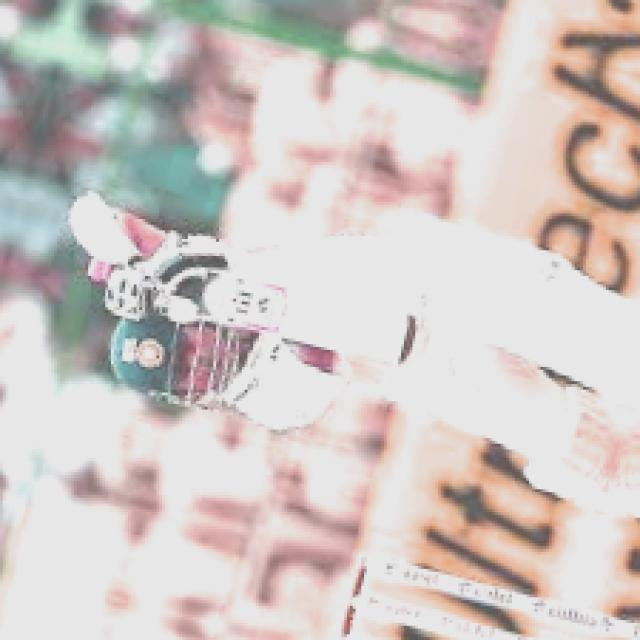bat: (195, 288, 426, 374)
toe: (396, 316, 416, 372)
